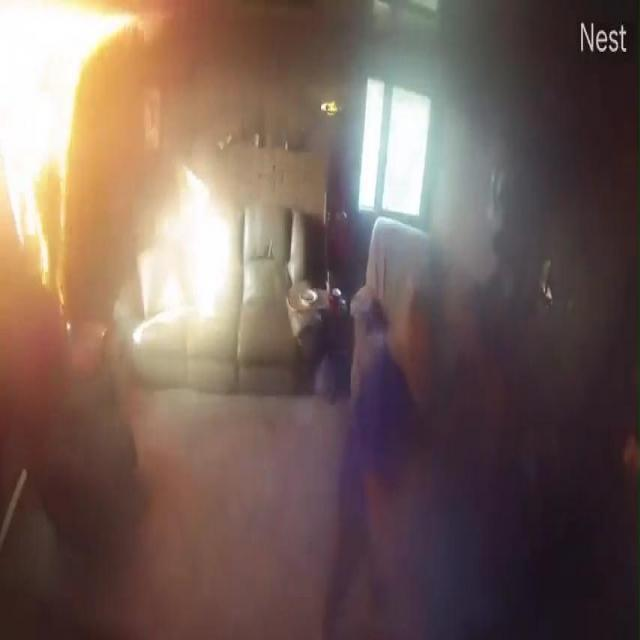fire: (0, 0, 146, 220)
